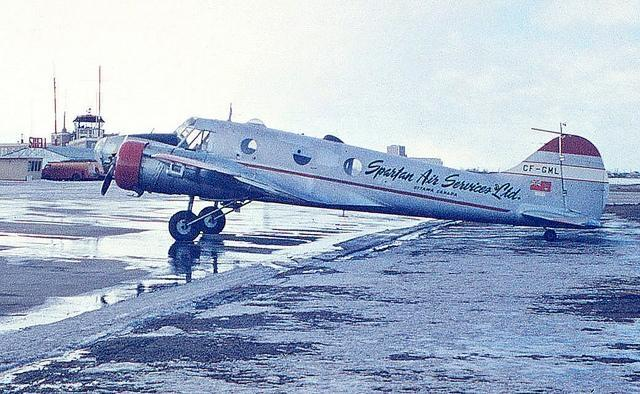truck: (41, 158, 106, 182)
